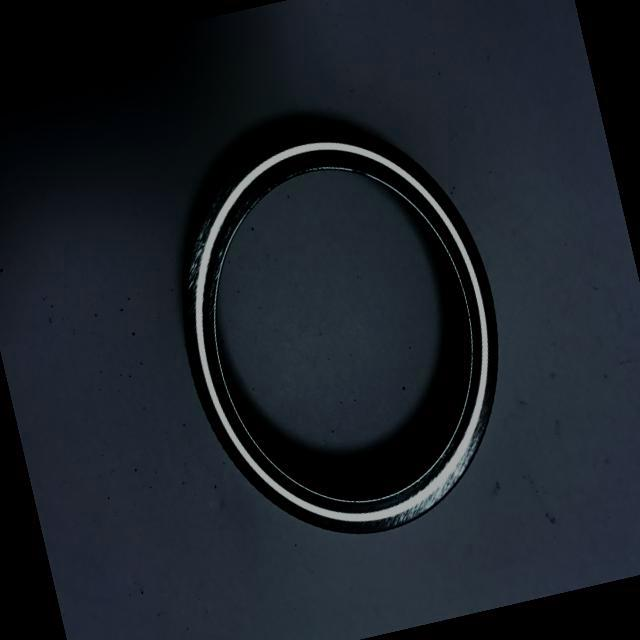metal: (135, 85, 556, 592)
